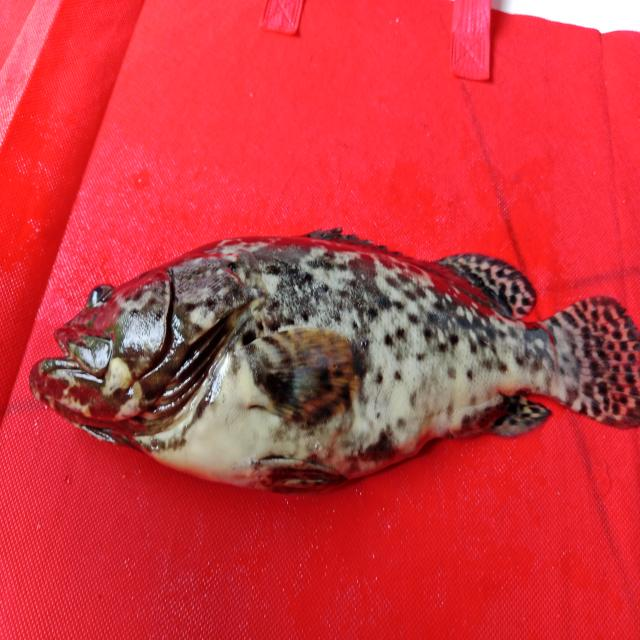ikan: (30, 218, 627, 503)
